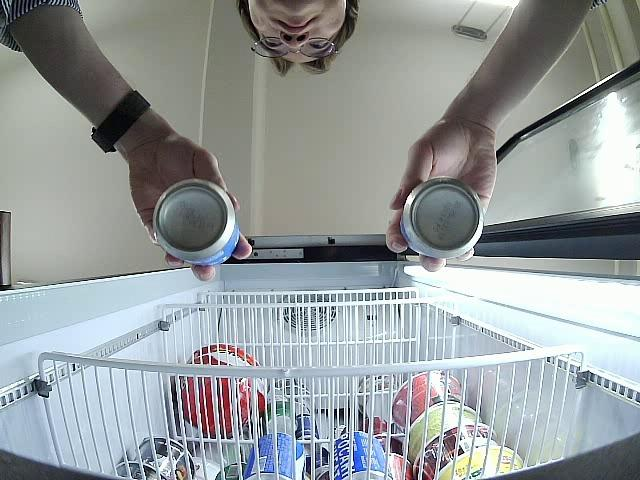00_hand: (128, 136, 252, 281), (385, 132, 496, 271)
15_letsbe: (155, 181, 241, 264)
